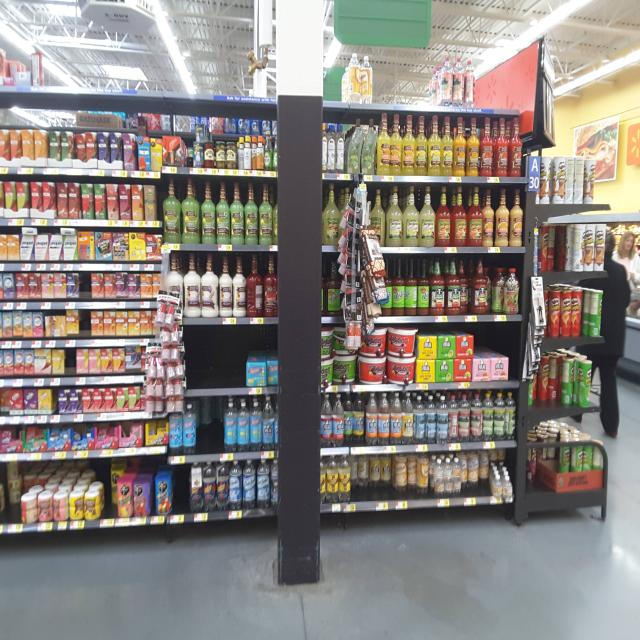empty: (186, 330, 251, 393)
